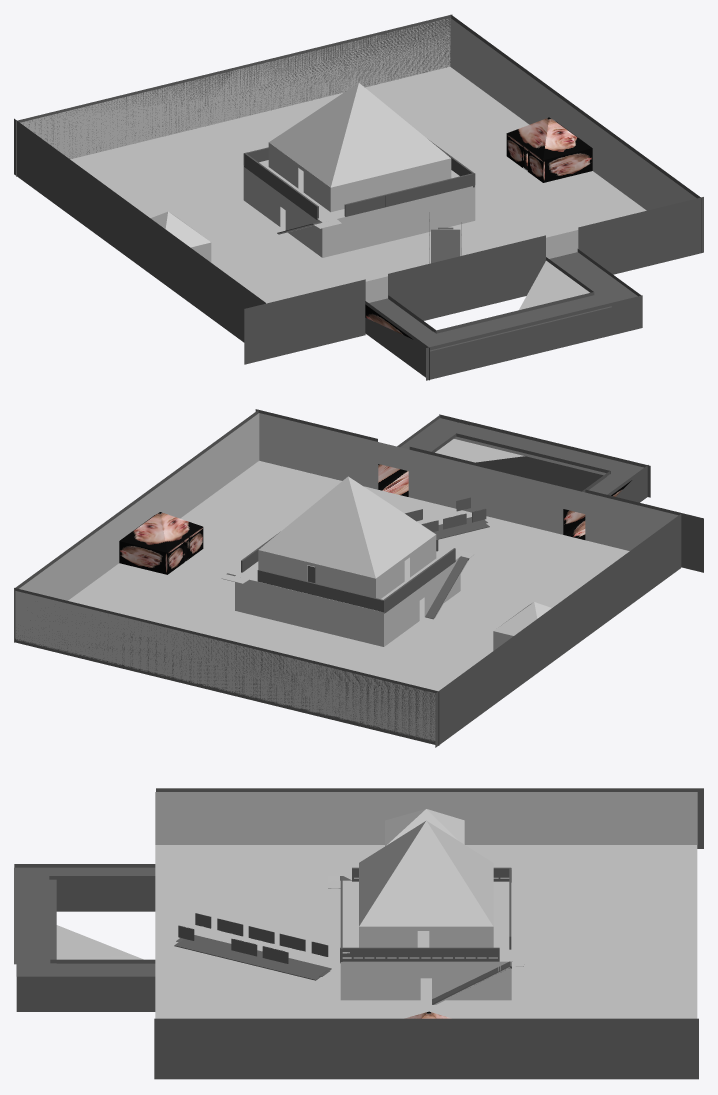
File: dm_techtips.fbx
3 renders of one model, top to bottom at view 1: azimuth 30°, elevation 25°; view 2: azimuth 150°, elevation 25°; view 3: azimuth 270°, elevation 25°, orthographic. The views are drawn at different scales.
Parts seen in each view (by area): view 1: mesh_1305, mesh_1096, mesh_1303, mesh_1304, mesh_788, mesh_1097, mesh_1299, mesh_1285, mesh_1302, mesh_701, mesh_1300, mesh_793 (+15 smaller); view 2: mesh_1305, mesh_1096, mesh_1281, mesh_1303, mesh_788, mesh_1097, mesh_1304, mesh_701, mesh_686, mesh_793, mesh_1283, mesh_1286 (+13 smaller); view 3: mesh_1305, mesh_1301, mesh_1098, mesh_788, mesh_692, mesh_1289, mesh_1283, mesh_1287, mesh_793, mesh_1303, mesh_794, mesh_807 (+9 smaller).
Part boxes in pixels (x1,y1,x2,y2): mesh_1305: (70,67,646,303); mesh_1096: (20,18,450,159); mesh_1303: (14,118,265,342); mesh_1304: (16,14,452,176); mesh_788: (269,83,450,187); mesh_1097: (450,18,696,210); mesh_1299: (388,235,545,320); mesh_1285: (426,295,642,380); mesh_1302: (244,279,365,364); mesh_701: (243,160,475,257); mesh_1300: (578,197,703,274); mesh_793: (268,142,451,211); mesh_1305: (16,460,629,741); mesh_1096: (15,591,435,740); mesh_1281: (259,413,678,550); mesh_1303: (435,514,681,747); mesh_788: (259,476,435,578); mesh_1097: (19,413,259,600); mesh_1304: (14,588,439,745); mesh_701: (235,551,460,646); mesh_686: (235,580,383,645); mesh_793: (258,534,436,598); mesh_1283: (454,425,643,480); mesh_1286: (456,433,610,491); mesh_1305: (155,845,697,1018); mesh_1301: (154,1018,698,1079); mesh_1098: (155,792,697,844); mesh_788: (359,820,493,926); mesh_692: (340,961,511,1000); mesh_1289: (16,976,155,1011); mesh_1283: (14,867,56,964); mesh_1287: (49,876,155,911); mesh_793: (359,926,493,947); mesh_1303: (156,788,703,848); mesh_794: (359,927,493,947); mesh_807: (342,880,511,961).
Bounding box in the file's own units: 2180 × 598 × 2607.
